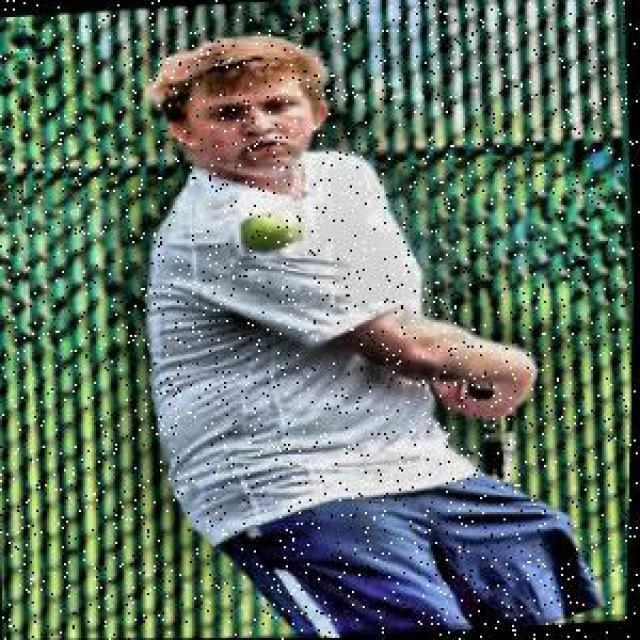tennis-ball: (242, 205, 306, 259)
